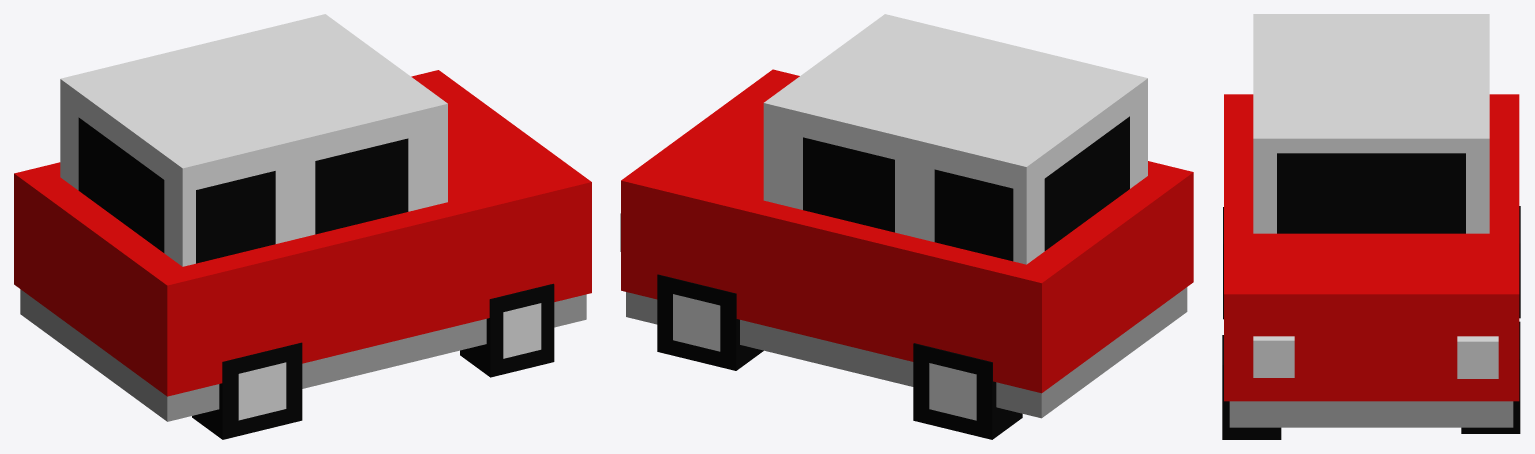
Rendered from redcar.fbx.
The picture shows the model from 3 angles, left to right: view 1: azimuth 30°, elevation 25°; view 2: azimuth 150°, elevation 25°; view 3: azimuth 270°, elevation 25°; orthographic projection. The views are drawn at different scales.
Visible parts, largest first — view 1: pCube1, pasted__pCube1, pCube4, pasted__pCube2, pCube2; view 2: pCube1, pasted__pCube1, pCube4, pasted__pasted__pCube2, pasted__pCube2; view 3: pCube1, pasted__pCube1, pCube4, pasted__pCube3, pCube3, pCube2, pasted__pCube2.
Part boxes in pixels (x1,y1,x2,y2): pCube1: (14,70,591,396); pasted__pCube1: (60,14,447,266); pCube4: (20,289,586,421); pasted__pCube2: (192,342,302,439); pCube2: (460,283,554,377); pCube1: (621,69,1193,393); pasted__pCube1: (763,14,1147,264); pCube4: (626,287,1187,418); pasted__pasted__pCube2: (913,343,1022,439); pasted__pCube2: (657,274,763,370); pCube1: (1224,94,1519,401); pasted__pCube1: (1253,14,1489,233); pCube4: (1229,401,1513,427); pasted__pCube3: (1457,336,1498,378); pCube3: (1253,336,1294,377); pCube2: (1222,335,1281,439); pasted__pCube2: (1461,321,1520,433).
Size of the model in its own units: 8.21 by 4.83 by 5.05.
